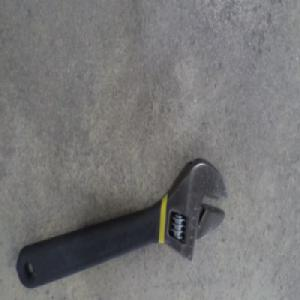AdjustableWrench: (15, 158, 229, 289)
